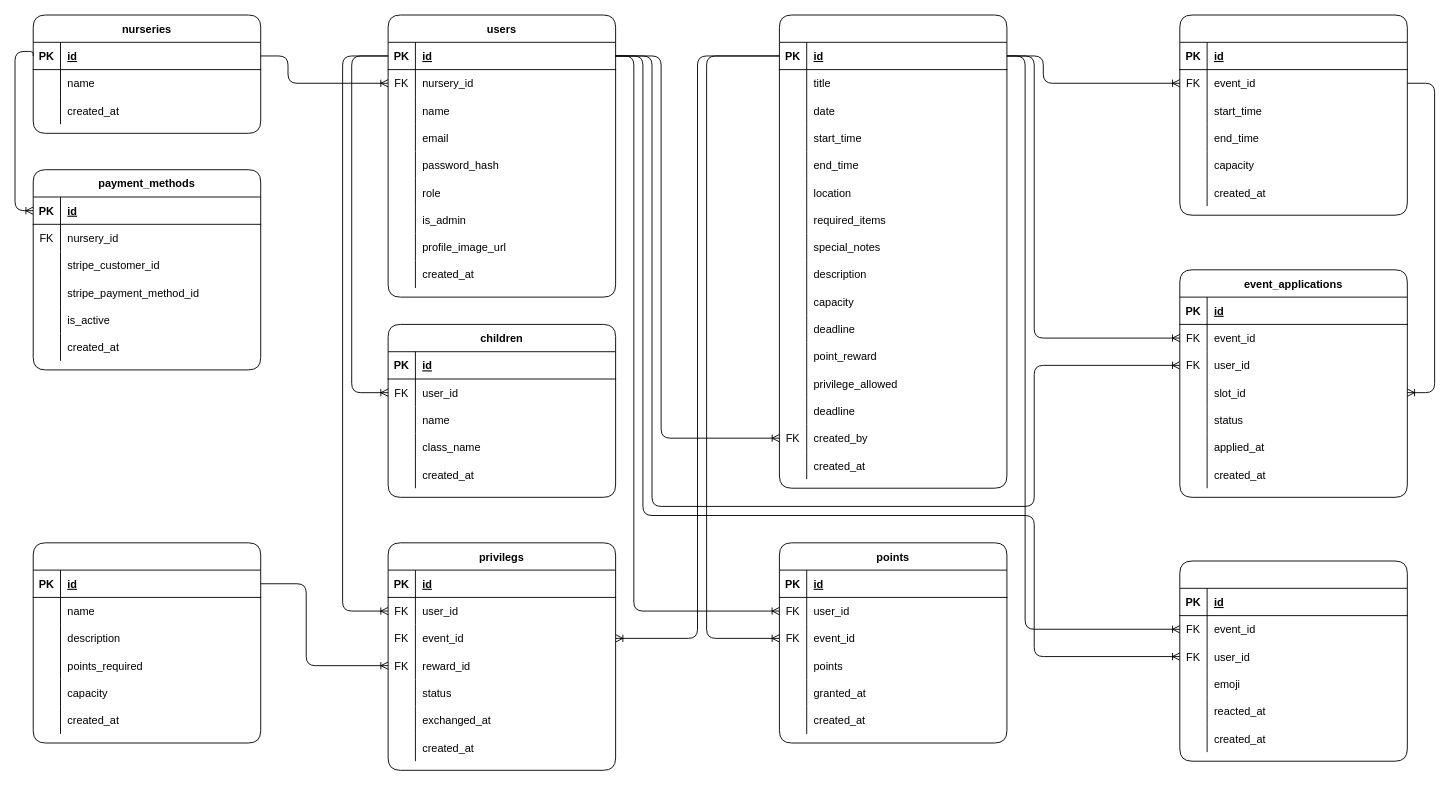
Some shapes in this 1450 by 785 pixel diagram are drawn without their labels. Here are the shapes that lost their labels. From the top down, the box of each, then its label:
(1179, 14, 1407, 215): event_slots
(779, 14, 1007, 488): events
(32, 542, 261, 743): rewards
(1179, 560, 1407, 761): event_reactions
